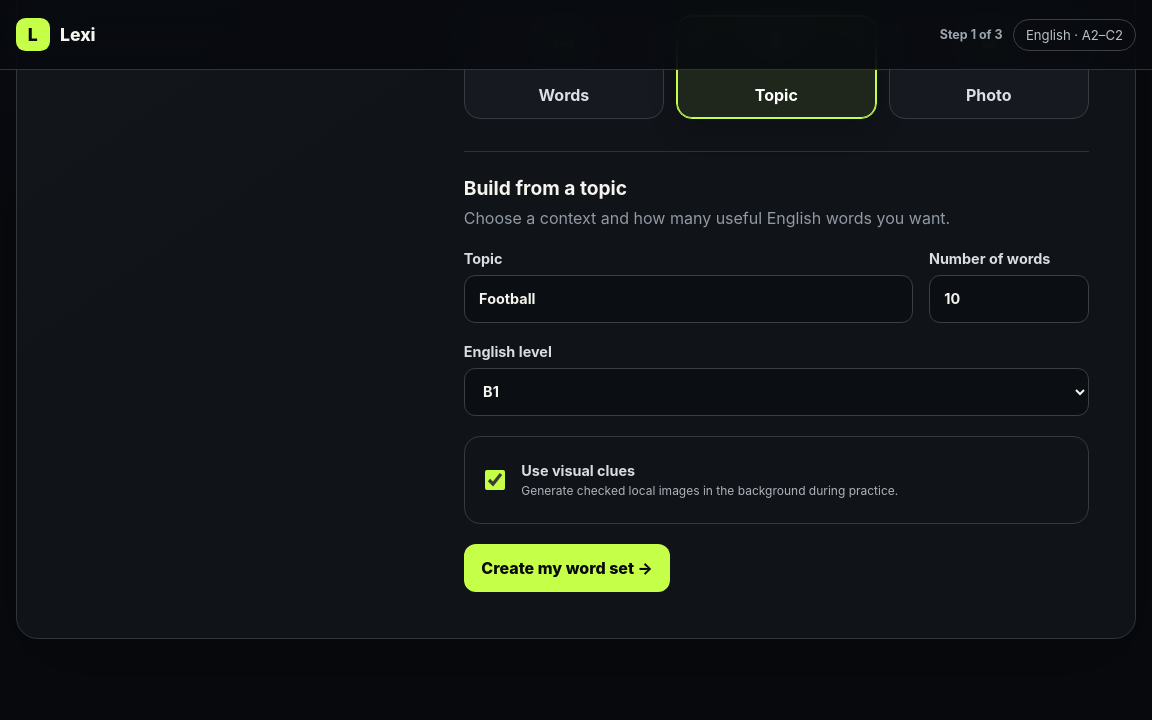
Test: VocabularyPage › does not start when final verification publishes fewer than four candidates
(page scrolled)
Submit the form named "Create my word set", box [464,151,1089,592]
(page scrolled)
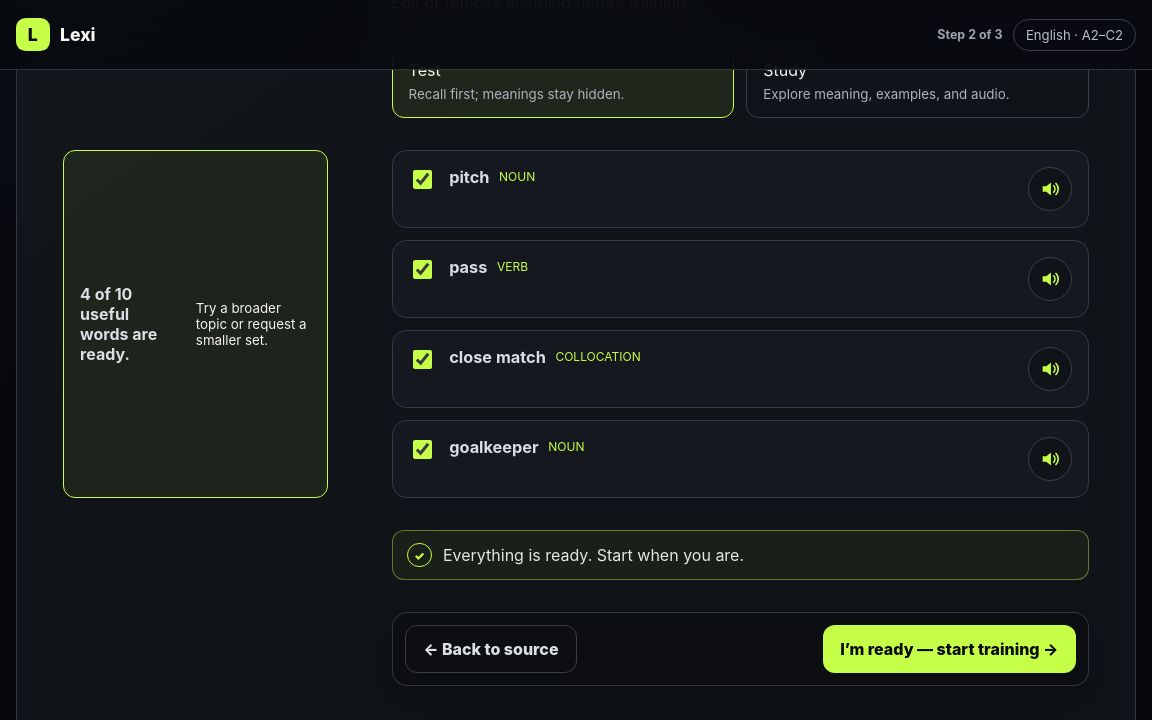
Click the button "I’m ready — start training →". click: (949, 650)
box: [822,626,1076,674]
(page scrolled)
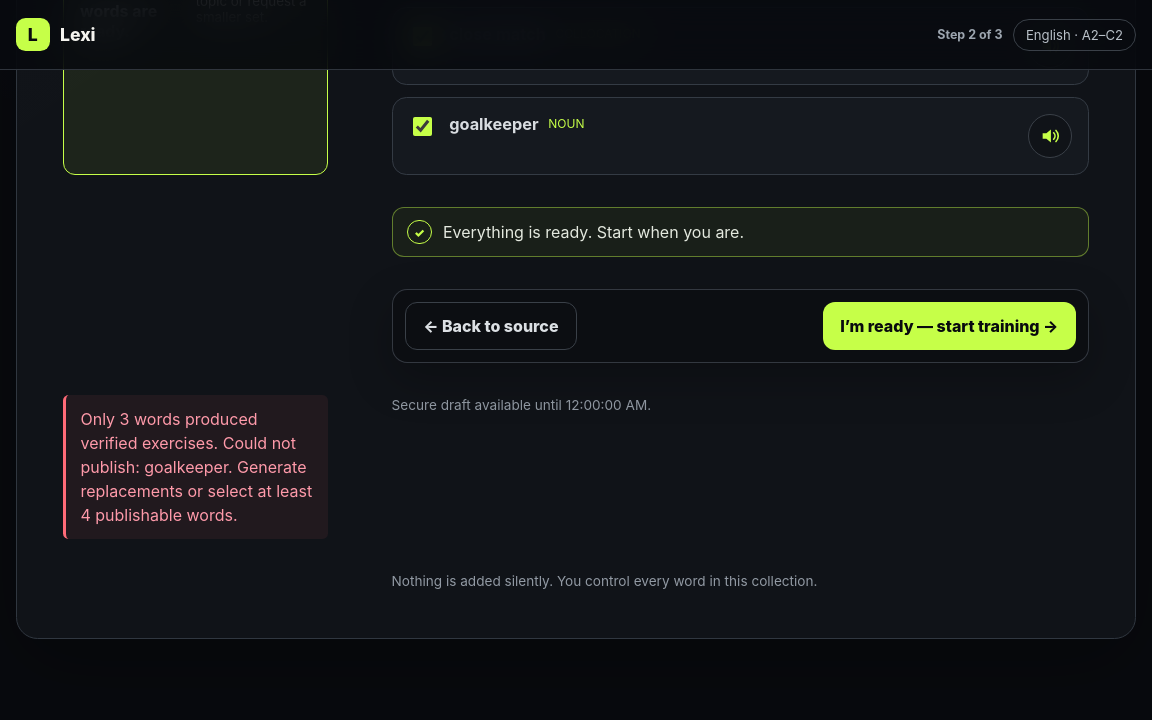
Expected: the message shows "Only 3 words produced verified exercises. Could not publish: goalkeeper. Generate replacements or select at least 4 publishable words.", [80,410,312,526]
